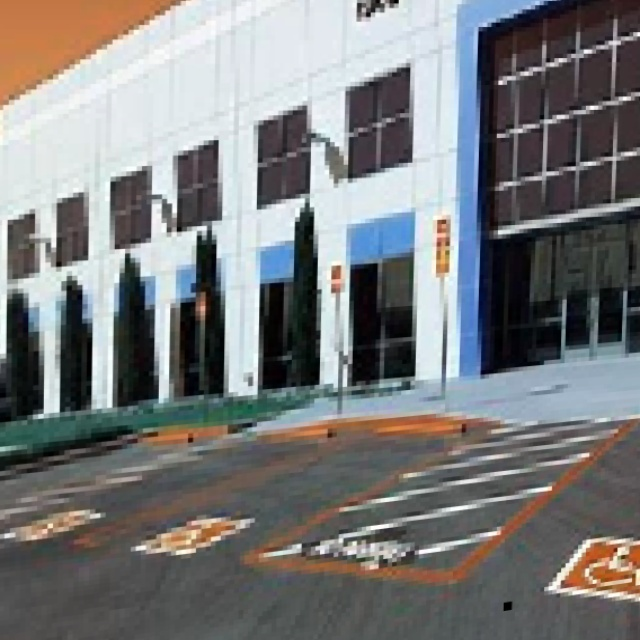ISA: (582, 537, 640, 605), (158, 513, 218, 558), (31, 509, 82, 535)
